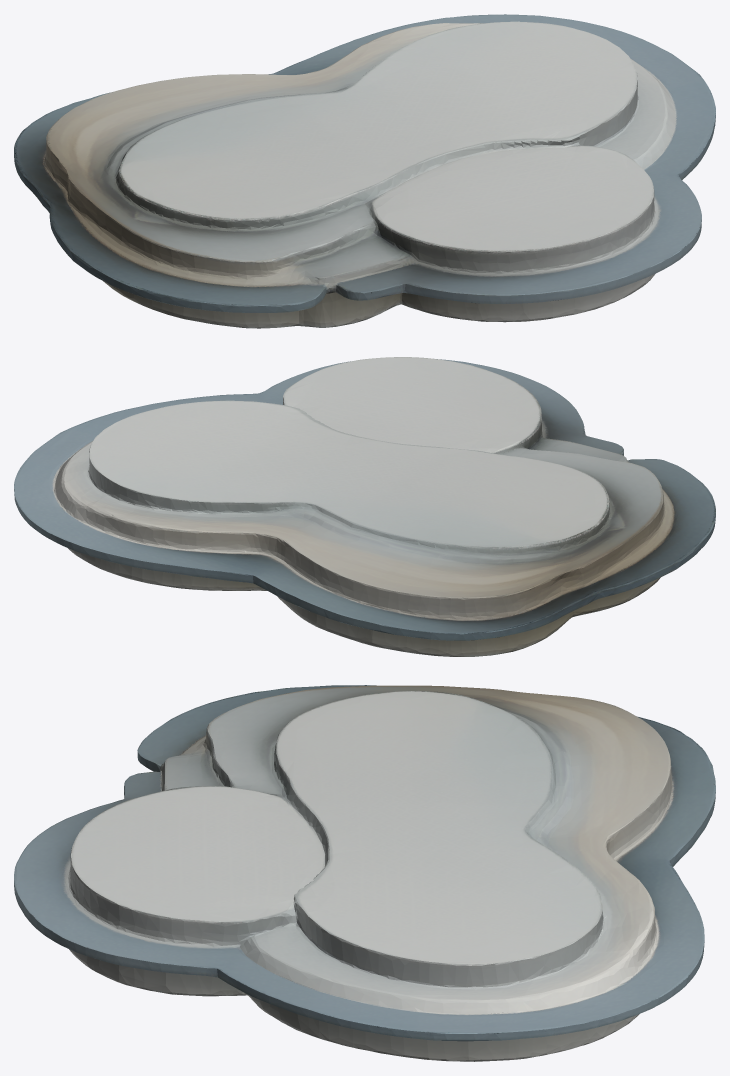
The model's file is air.glb.
3 views of the same model, one above another, from view 1: azimuth 30°, elevation 25°; view 2: azimuth 150°, elevation 25°; view 3: azimuth 270°, elevation 25° (orthographic). The views are drawn at different scales.
Parts seen in each view (by area): view 1: geometry_0; view 2: geometry_0; view 3: geometry_0.
Boxes of the visible parts, box(x1,y1,x2,y2) form: geometry_0: box(14, 14, 715, 328); geometry_0: box(14, 357, 715, 656); geometry_0: box(14, 685, 715, 1061).
Size of the model in its own units: 1 by 0.1116 by 0.848.
Materials: 1 (1 with a texture image).
